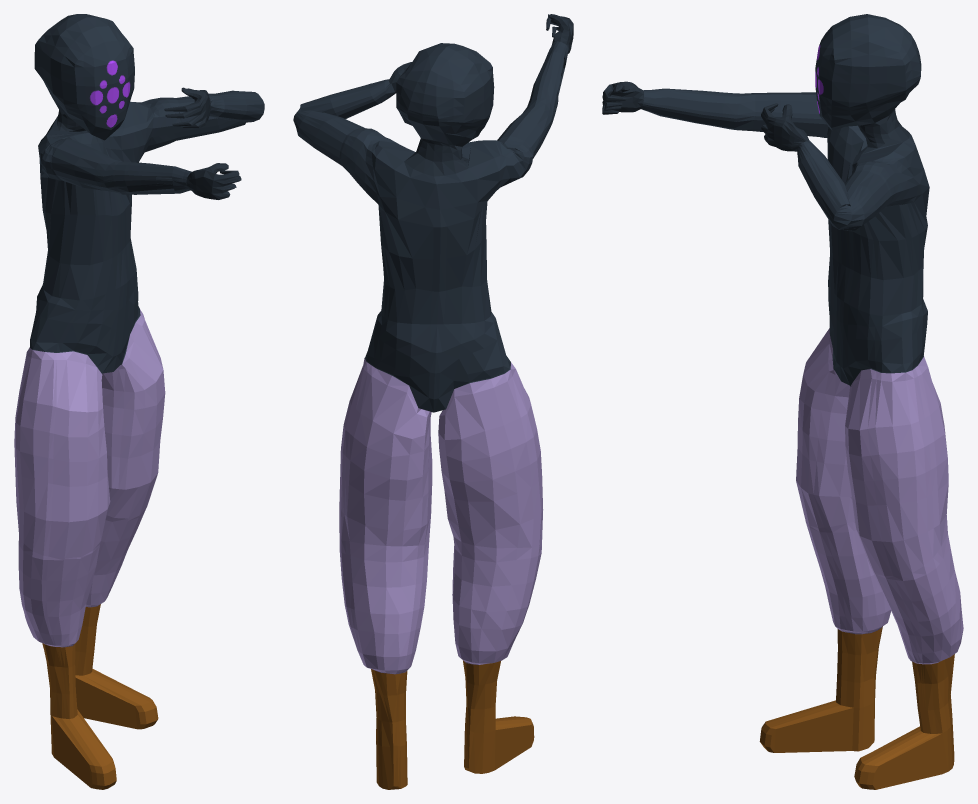
File: Oracle_Attack_000018.obj
3 renders of one model, left to right at view 1: azimuth 30°, elevation 25°; view 2: azimuth 150°, elevation 25°; view 3: azimuth 270°, elevation 25°, orthographic. The views are drawn at different scales.
Parts seen in each view (by area): view 1: Cube; view 2: Cube; view 3: Cube.
Boxes of the visible parts, x1=… form: Cube: x1=14, y1=14, x2=264, y2=789; Cube: x1=293, y1=14, x2=573, y2=789; Cube: x1=602, y1=14, x2=963, y2=789.
Bounding box in the file's own units: 1.37 × 3.94 × 1.73.
